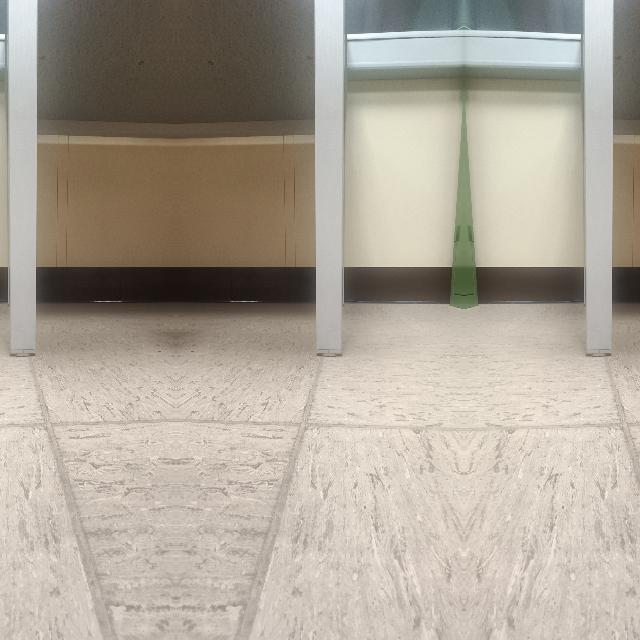obstacle: (562, 168, 624, 354), (304, 168, 364, 354), (0, 167, 46, 354)
